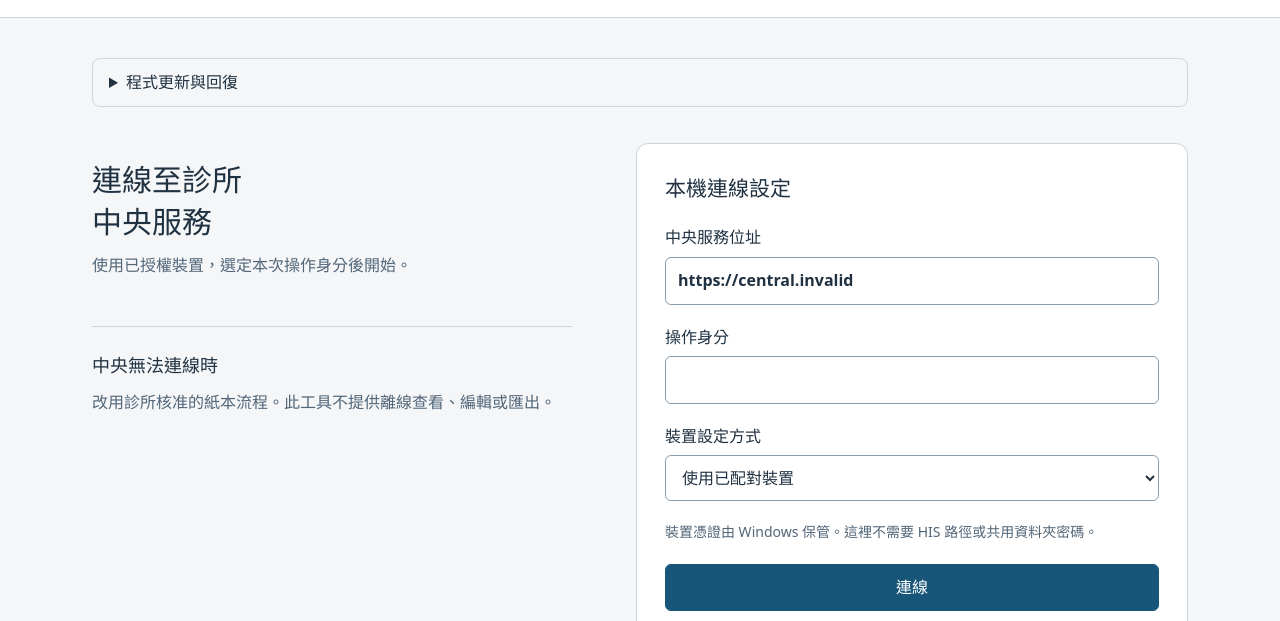
Test: a stale reload cannot replace the device state obtained after revocation
Expected: the field showing "https://central.invalid" is shown, [665,257,1159,305]
Step 1. Type "管理者" into the field labelled "操作身分" → (912, 380), box [665,356,1159,404]
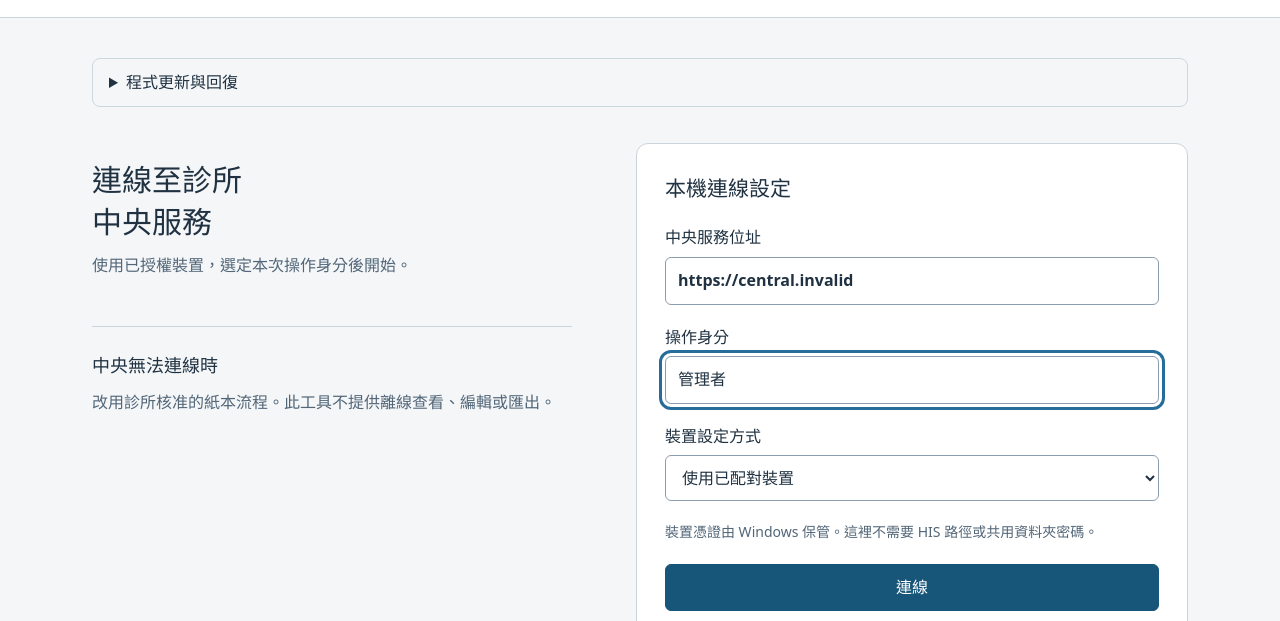
Step 2. Click the button "連線" → (912, 588), box [665,564,1159,611]
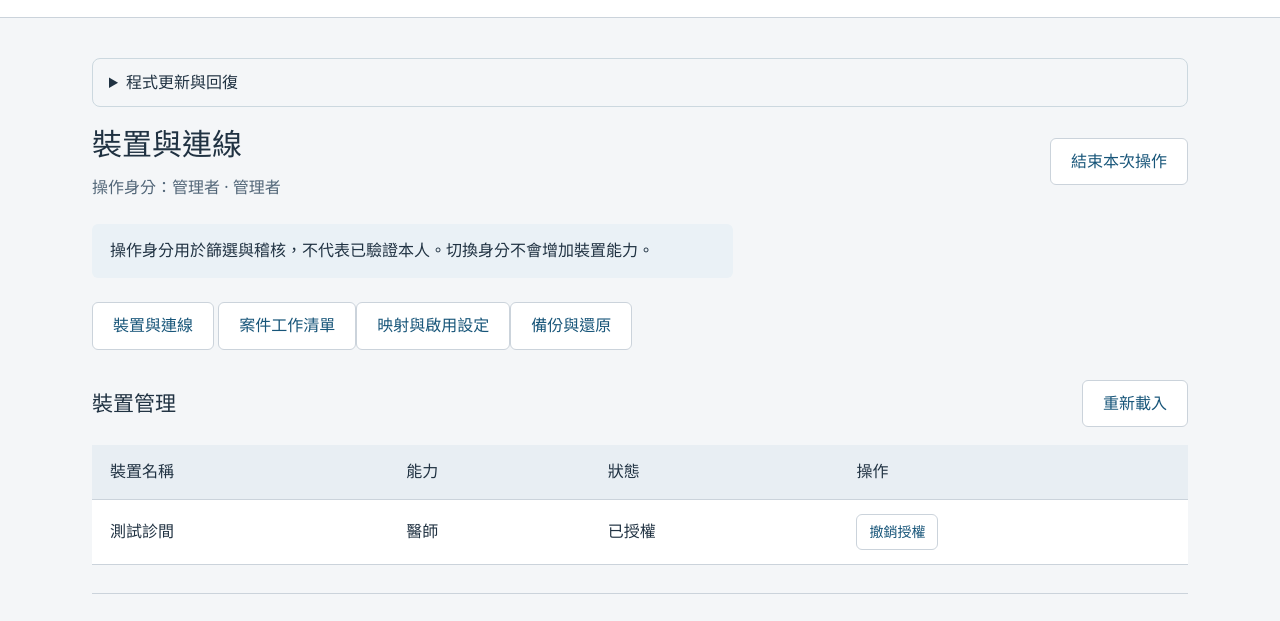
Now the text "測試診間" is shown, box [92,499,388,565]
Step 3. Click the button "重新載入" → (1135, 403), box [1082,380,1188,427]
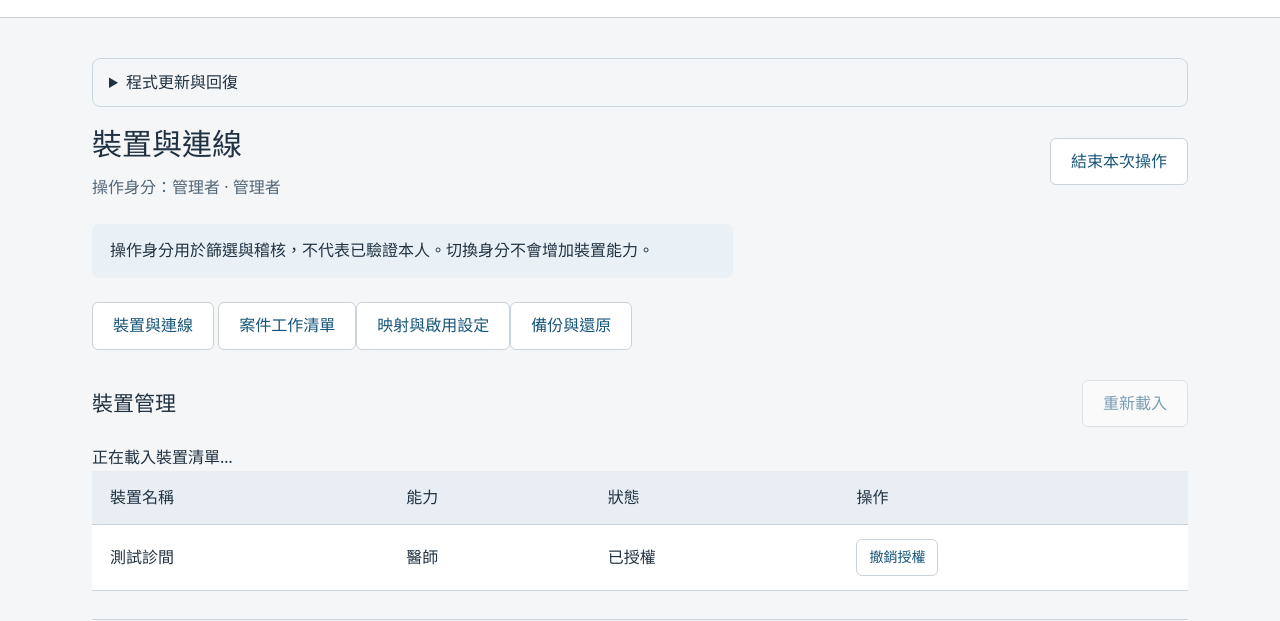
Step 4. Click the button "撤銷授權" → (898, 558), box [856,539,938,576]
(page scrolled)
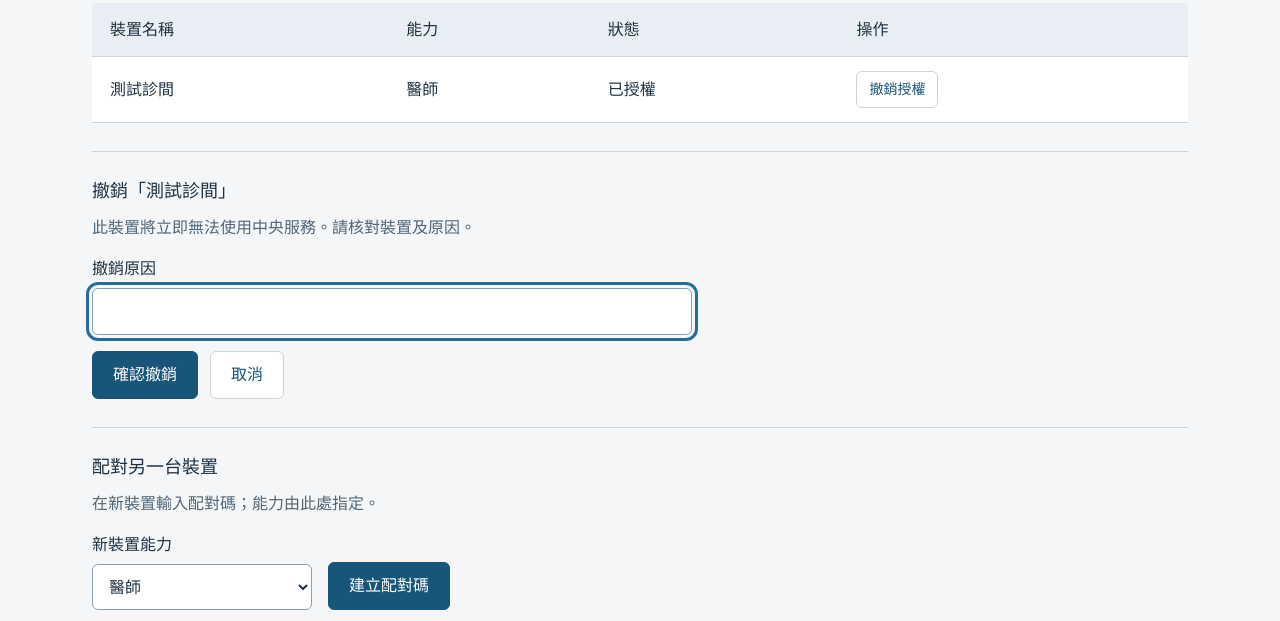
Step 5. Type "合成撤銷演練" into the field labelled "撤銷原因" → (392, 312), box [92,288,692,335]
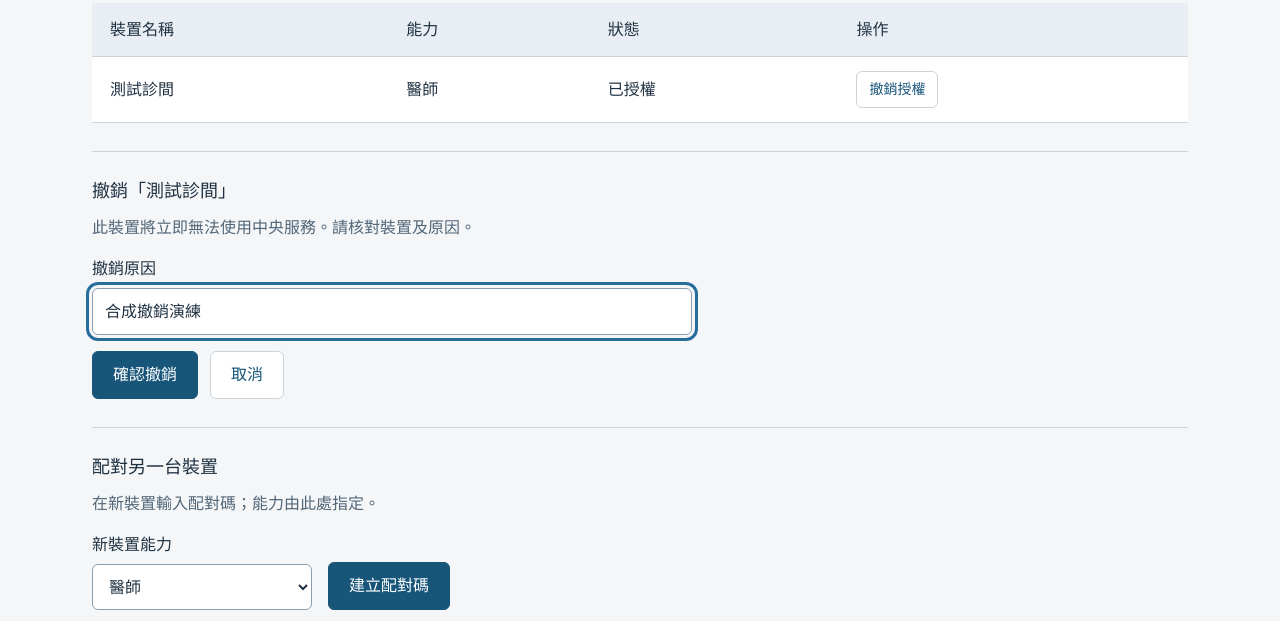
Step 6. Click the button "確認撤銷" → (145, 375), box [92,351,198,399]
(page scrolled)
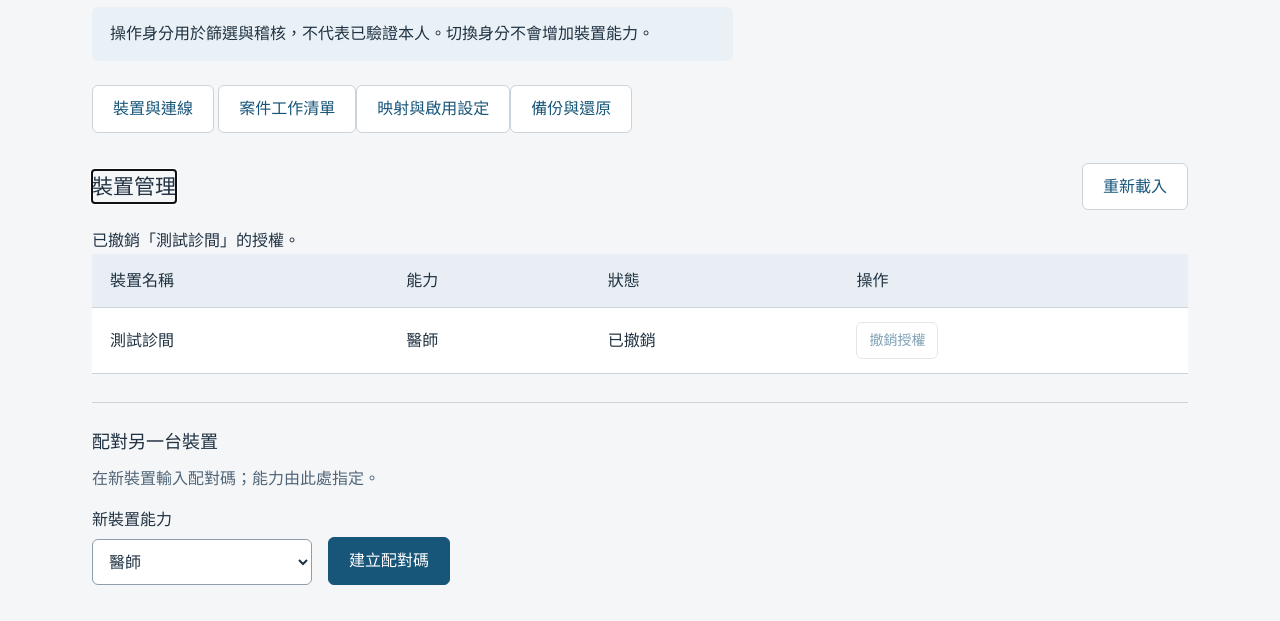
Now the button "撤銷授權" is disabled, box [856,322,938,359]
Now the text "已撤銷" is shown, box [590,308,838,373]
